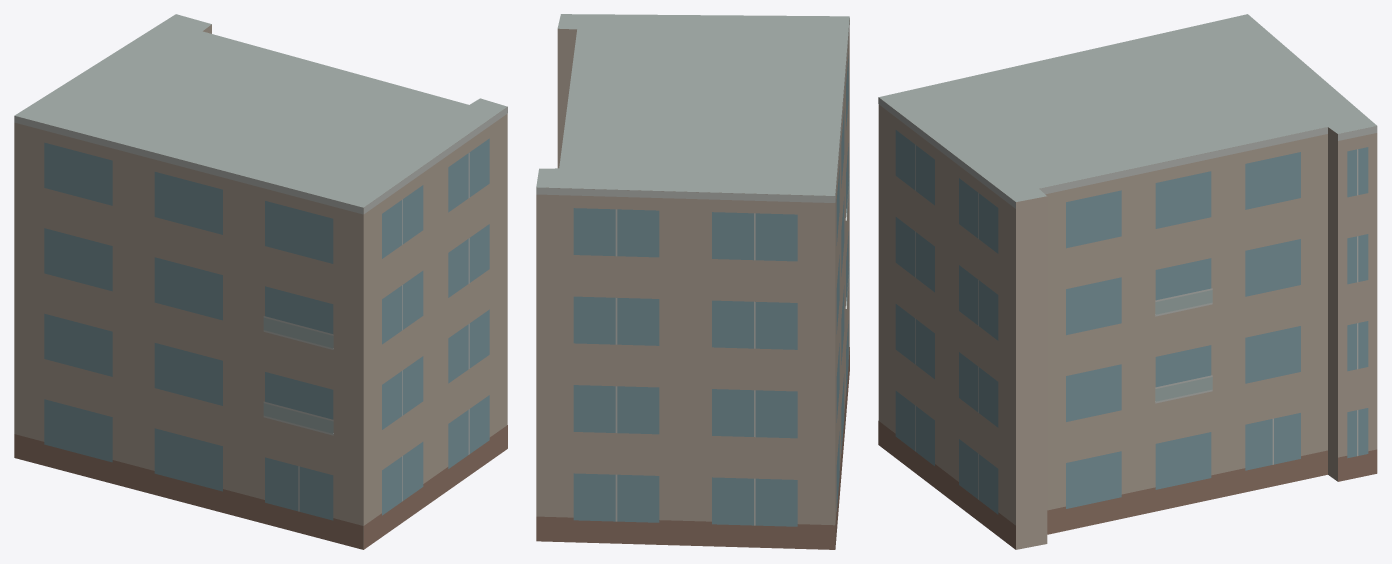
File: survey-upis-32709776.glb
The picture shows the model from 3 angles, left to right: view 1: azimuth 30°, elevation 25°; view 2: azimuth 150°, elevation 25°; view 3: azimuth 270°, elevation 25°; orthographic projection. The views are drawn at different scales.
Parts seen in each view (by area): view 1: survey-upis-32709776.tmp; view 2: survey-upis-32709776.tmp; view 3: survey-upis-32709776.tmp.
Boxes of the visible parts, x1=… form: survey-upis-32709776.tmp: x1=14, y1=14, x2=507, y2=549; survey-upis-32709776.tmp: x1=536, y1=14, x2=849, y2=549; survey-upis-32709776.tmp: x1=878, y1=14, x2=1377, y2=549.
Bounding box in the file's own units: 14.16 × 12.2 × 15.87.
